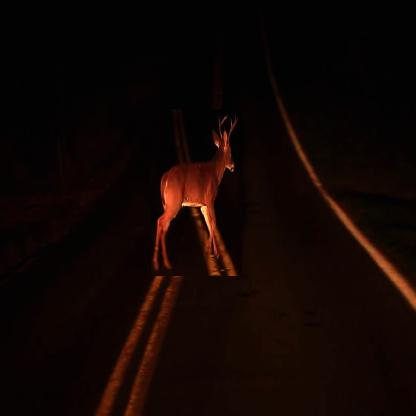Deer: (151, 109, 242, 276)
